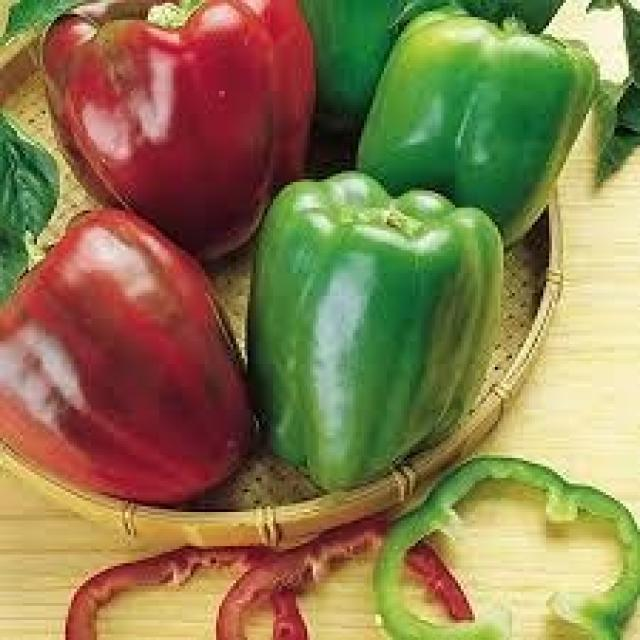bell_pepper: (230, 164, 511, 497), (8, 206, 252, 538), (38, 1, 308, 280), (365, 7, 601, 249)
